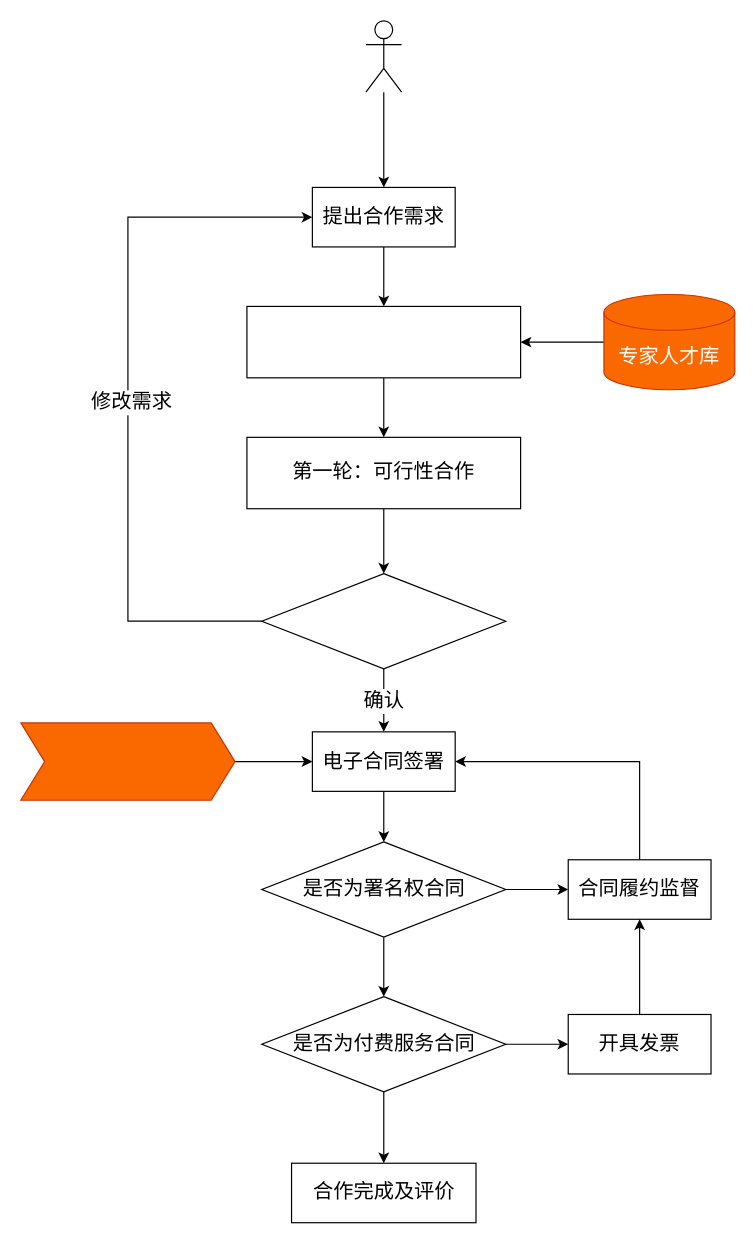
The diagram is 756 pixels wide and 1244 high, and some of its shapes have lost their labels. The shapes that lost their labels are listed below. From the top down, each one's centre as x and y in pixels, then its label:
At pixel 383 56: "医生、科研人员、机构".
At pixel 383 341: "寻找专家（统计师、IT专家）".
At pixel 383 620: "确认合作意向".
At pixel 127 761: "经纪人服务".
